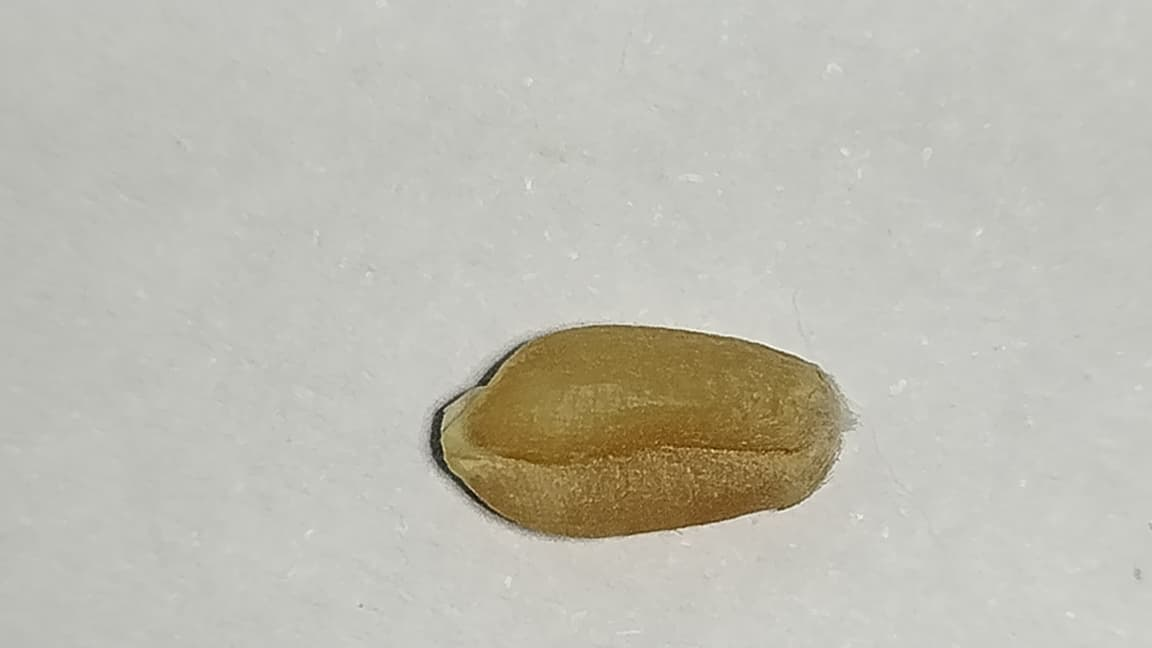healthy: (428, 322, 855, 537)
